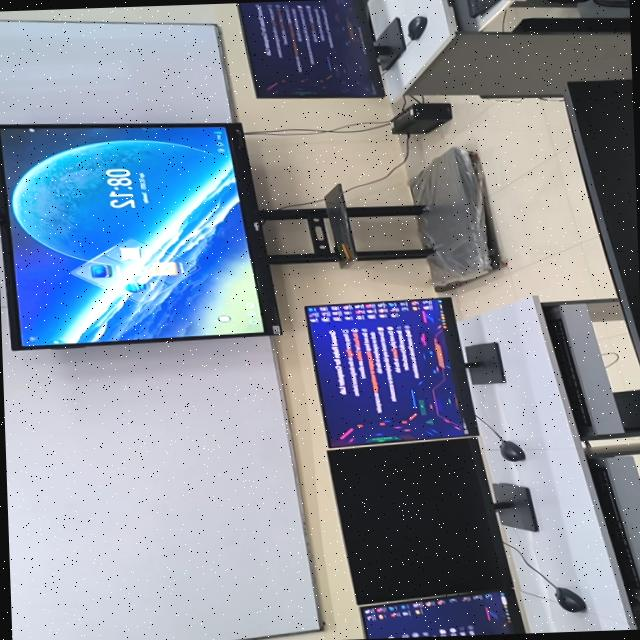Digital board: (0, 123, 280, 350)
Keyboard: (465, 0, 499, 18)
Monitor: (326, 437, 511, 604), (304, 298, 475, 446), (563, 79, 640, 367), (235, 0, 383, 98), (359, 590, 523, 639)
Mouse: (554, 587, 584, 612), (498, 440, 524, 461), (406, 15, 426, 40)
